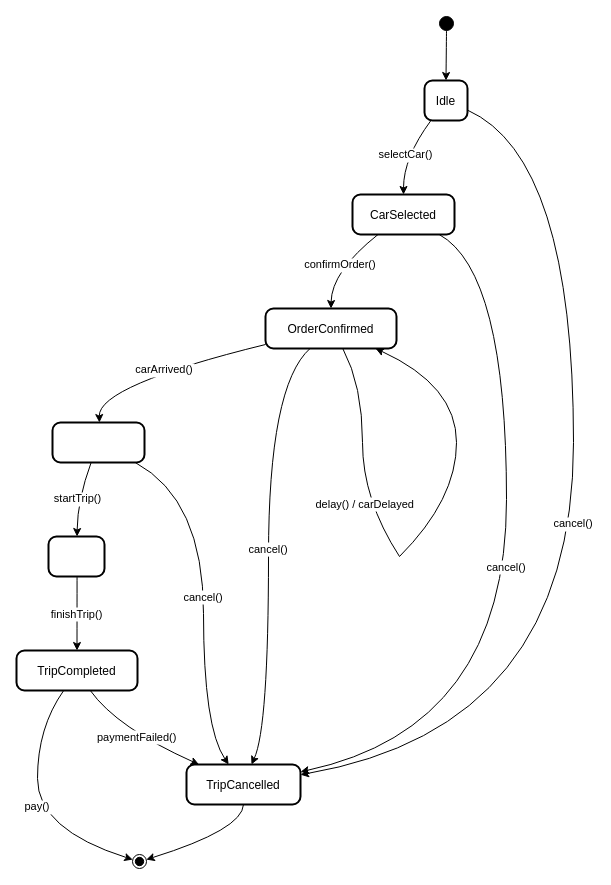
Image size: 611x885. Some labels were removed from this diagram. Each missing label, with the box of its shape:
CarArrived: (51, 421, 145, 463)
InTrip: (47, 535, 105, 577)
